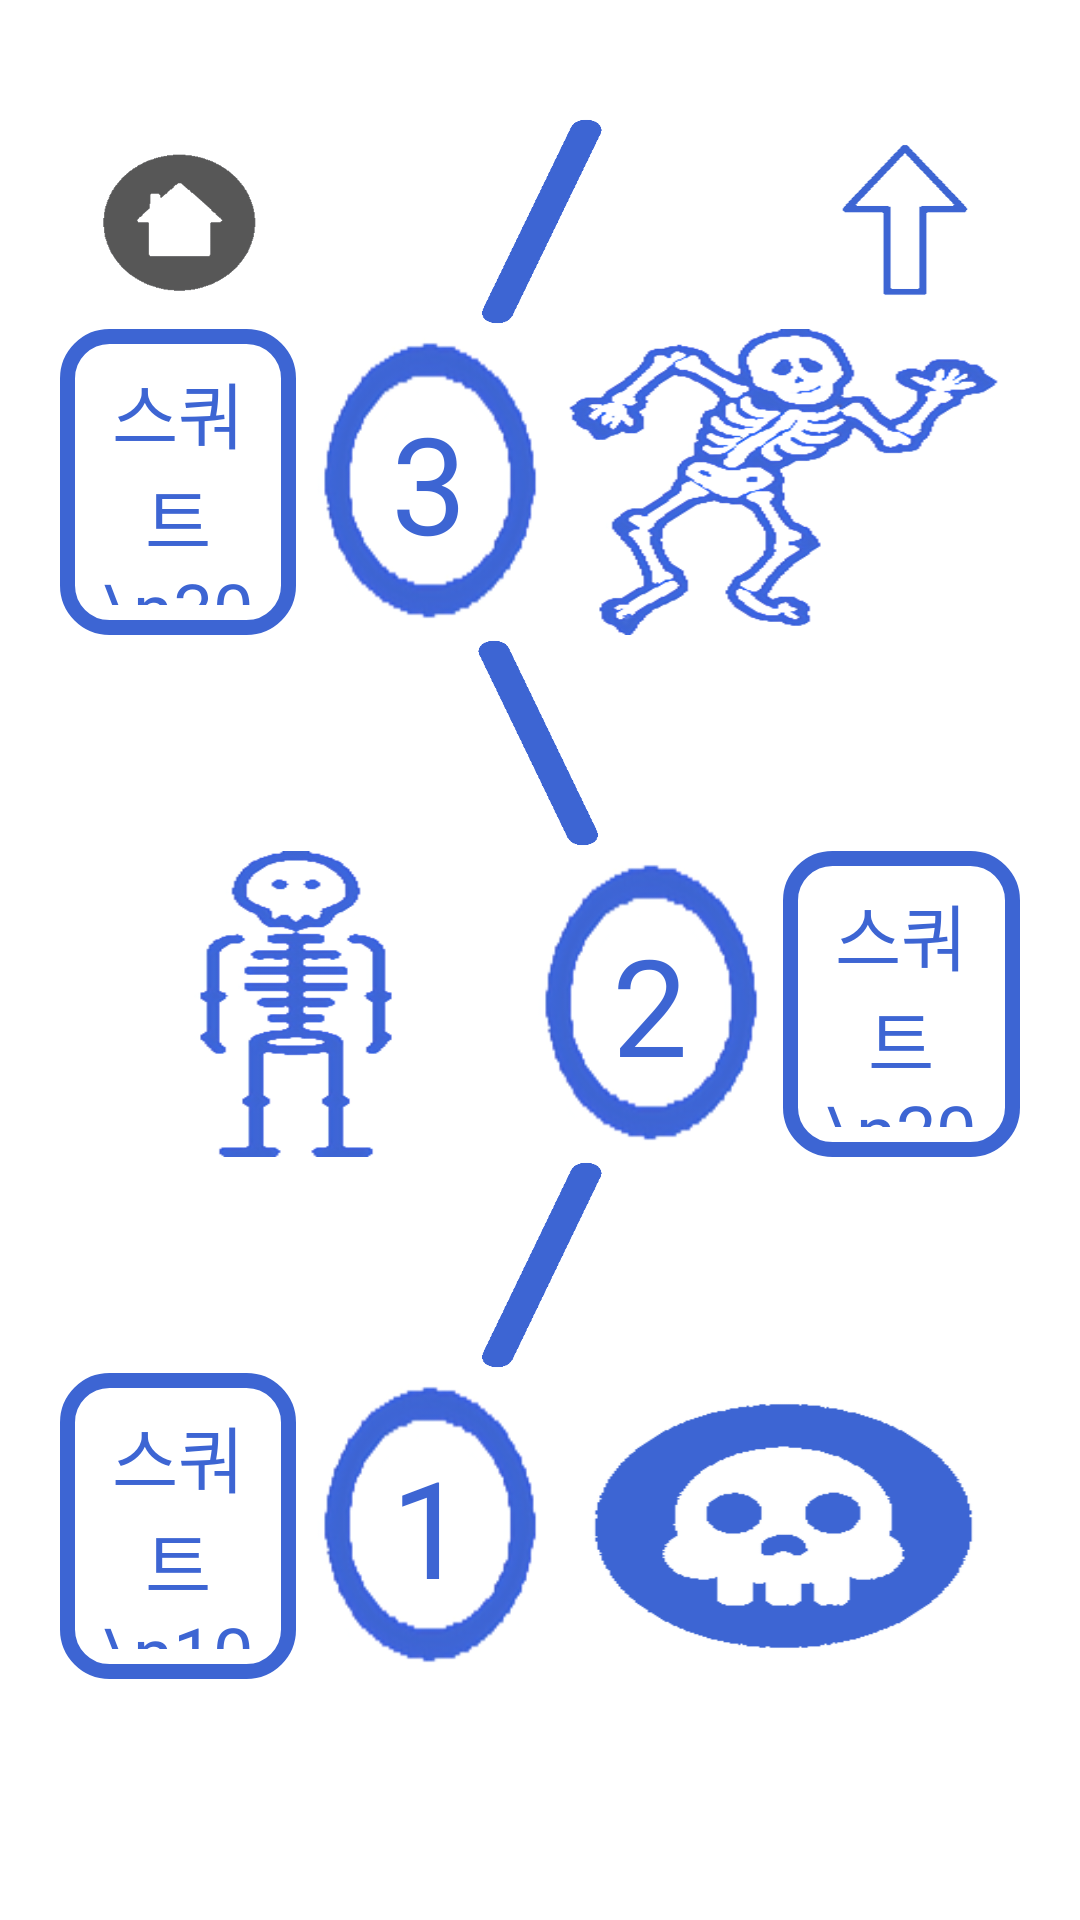

Icon click points for this 1080w x 1920h phone screenshot, format (x,y):
home: (179,222)
